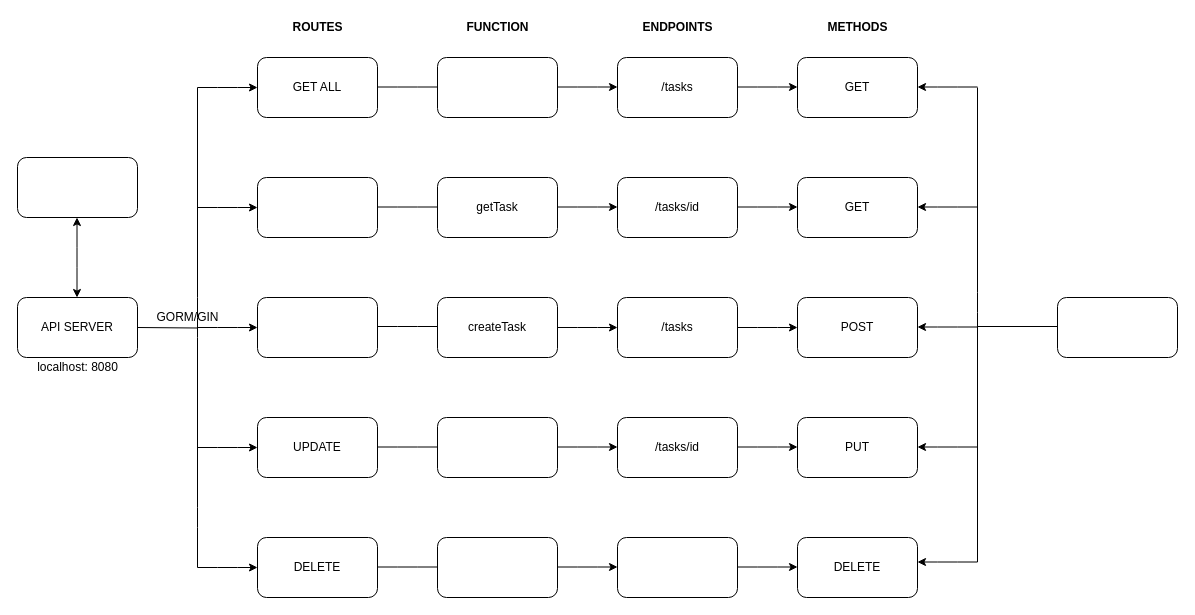
The diagram is 1195 pixels wide and 615 high, and some of its shapes have lost their labels. The shapes that lost their labels are listed below. From the top down, each one's box as (x1, y1, x2, y2) in pixels, then its label:
(436, 56, 558, 118): getTasks
(16, 156, 138, 218): POSTGRES - DB
(256, 176, 378, 238): GET BY ID
(256, 296, 378, 358): CREATE
(1056, 296, 1178, 358): Postman
(436, 416, 558, 478): udpateTask
(436, 536, 558, 598): deleteTask
(616, 536, 738, 598): tasks/id
